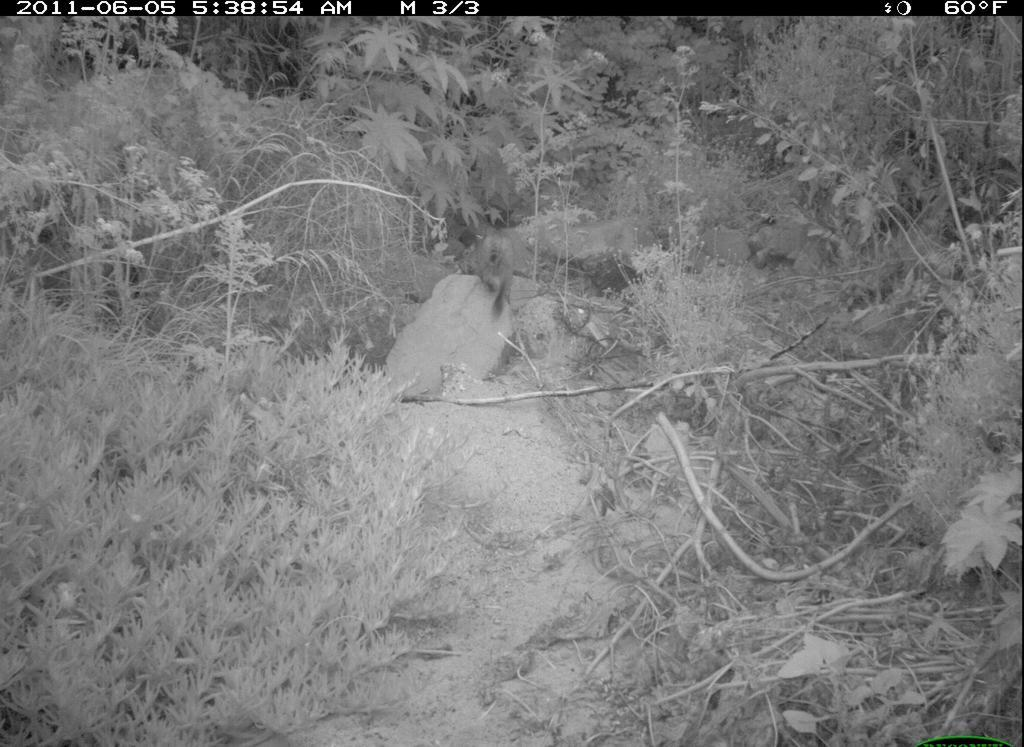bobcat: (454, 205, 521, 326)
